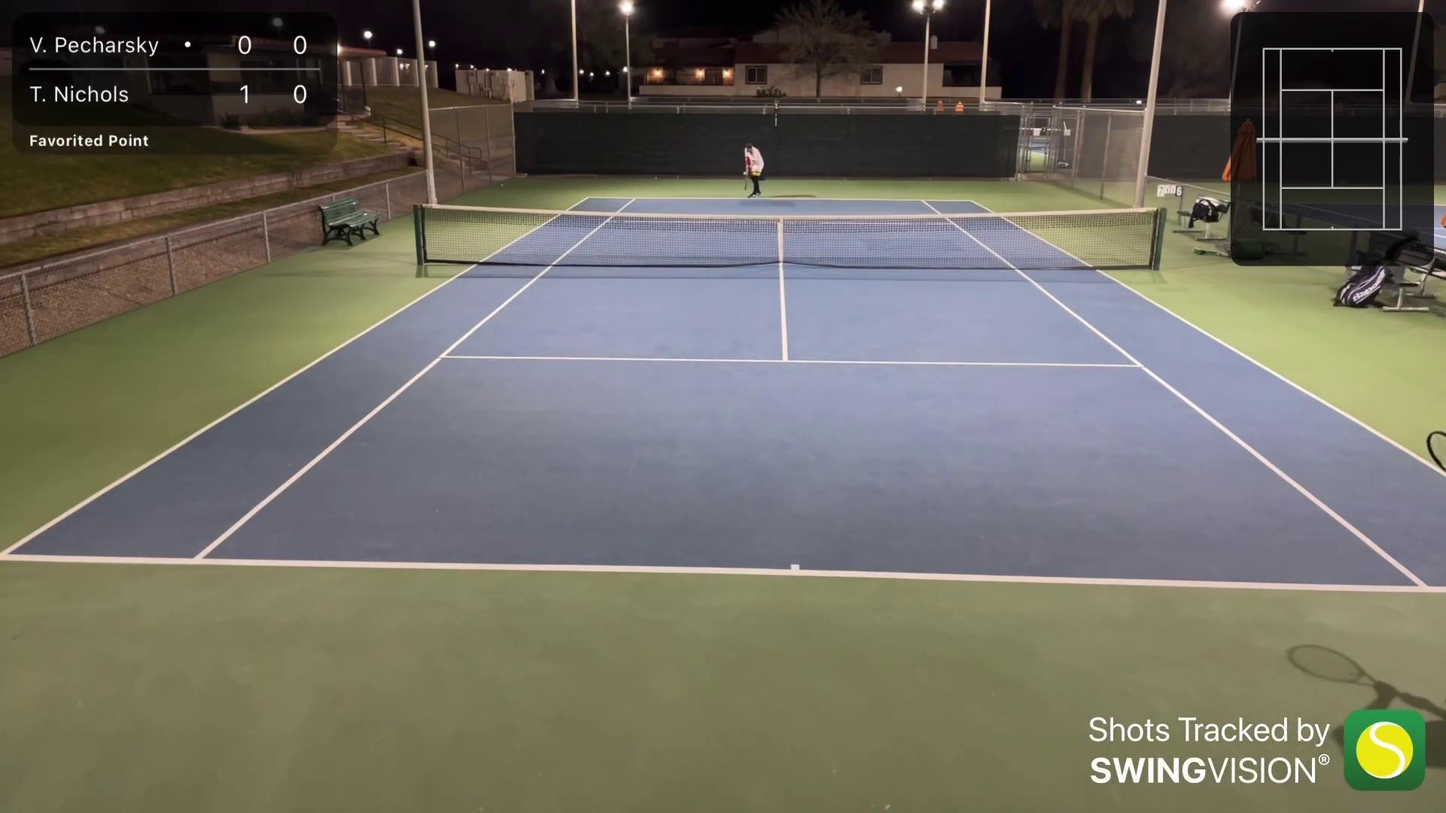ball: (499, 181, 506, 188), (742, 169, 747, 176)
